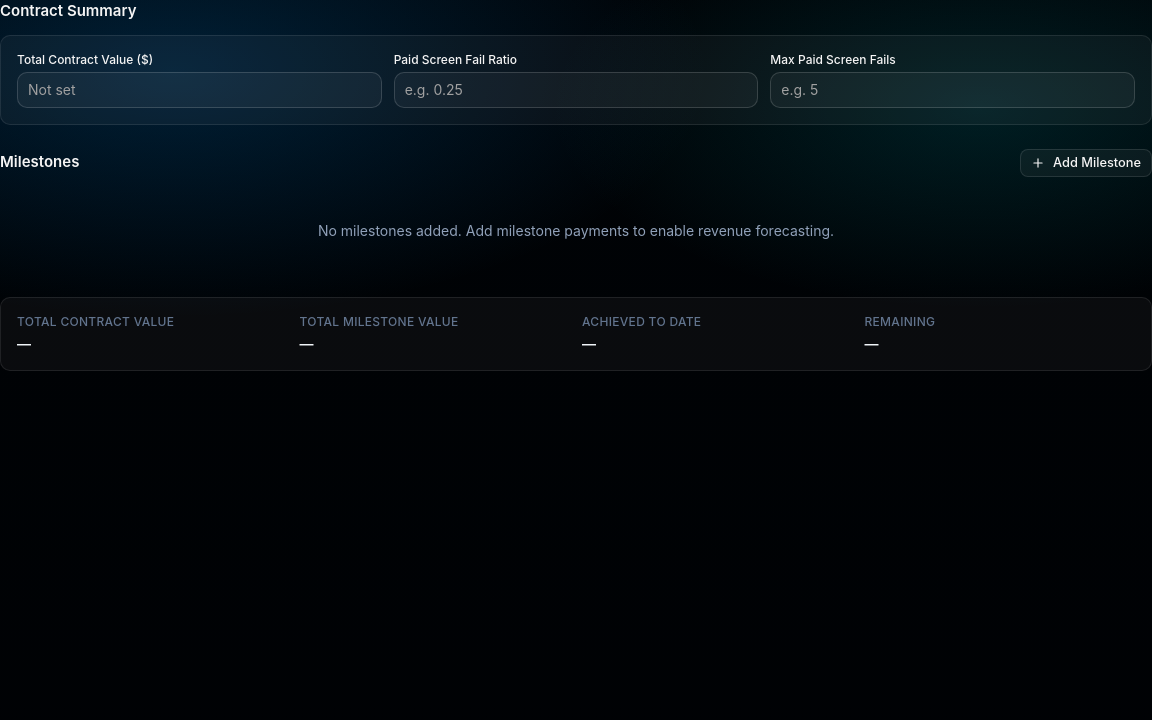
ContractTab › opens add milestone dialog on button click
This screenshot has width=1152, height=720.
Click the button "Add Milestone": click(1086, 162) 1020,148 -> 1151,176
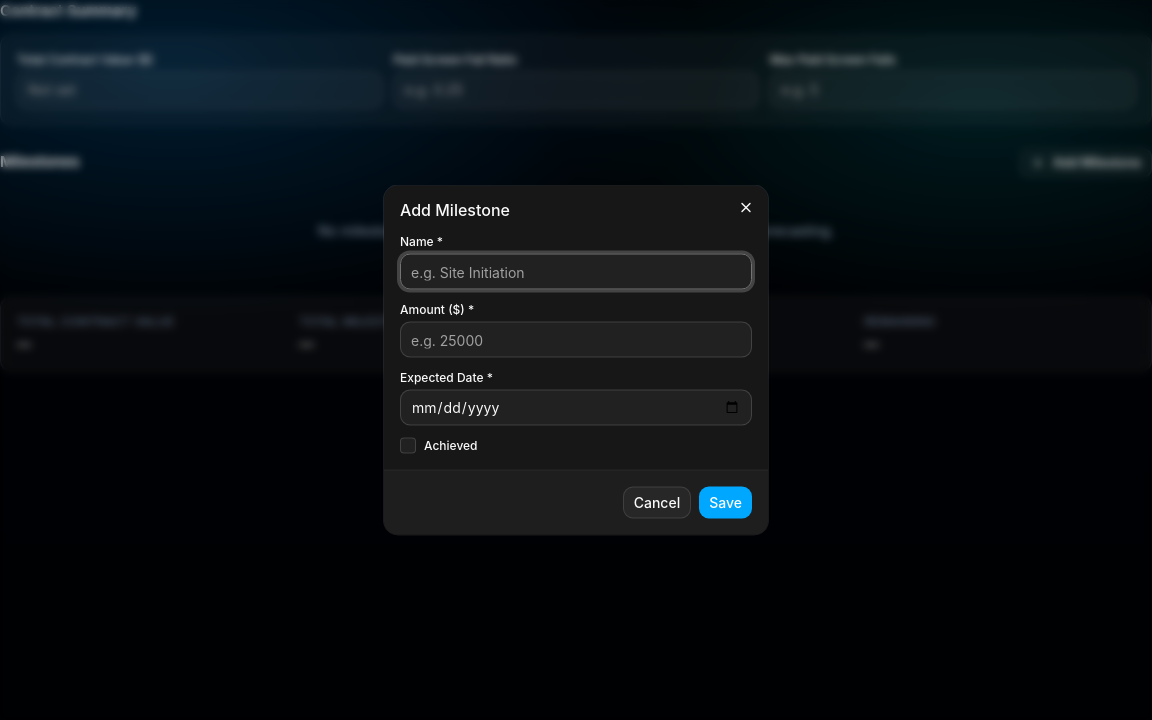
Expected: the field labelled "Name *" is shown, 400,254 -> 752,290
Expected: the number field labelled "Amount ($) *" is shown, 400,322 -> 752,358
Expected: the date field labelled "Expected Date *" is shown, 400,390 -> 752,426
